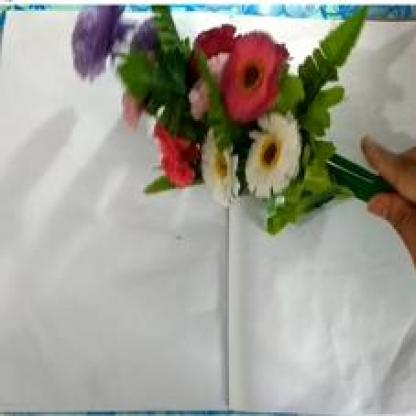flower: (70, 0, 394, 240)
